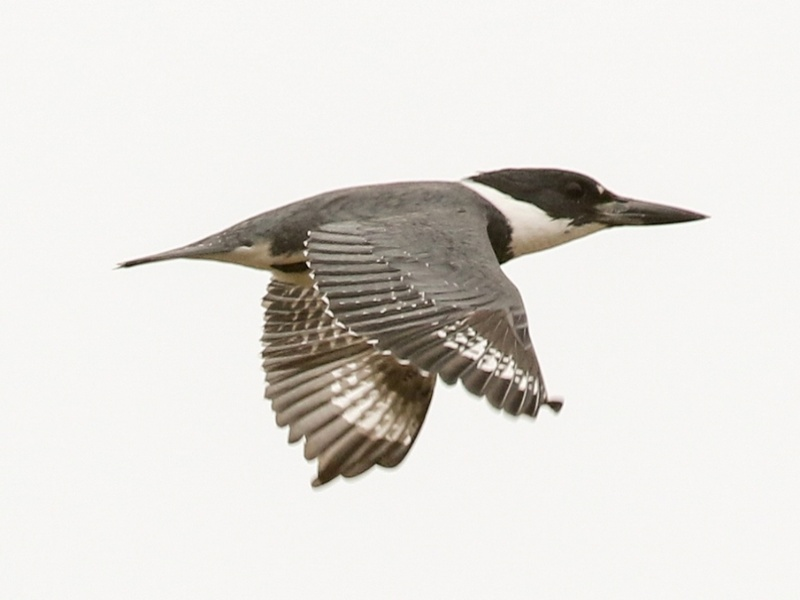kingfisher: (115, 158, 718, 515)
